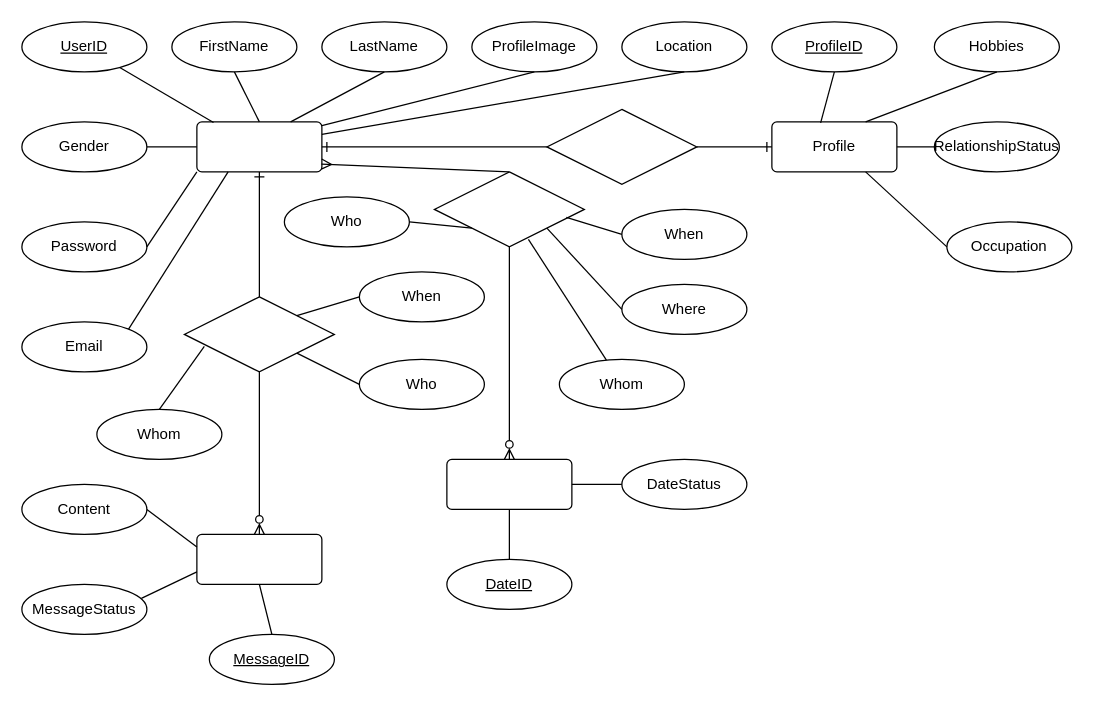
The diagram is 1094 pixels wide and 706 high, and some of its shapes have lost their labels. The centre of each missing label's shape, as x and y in pixels:
accepts/offers/rejects: point 508,209
Date: point 509,483
has: point 621,146
Message: point 259,558
sends: point 258,334
User: point 259,146
